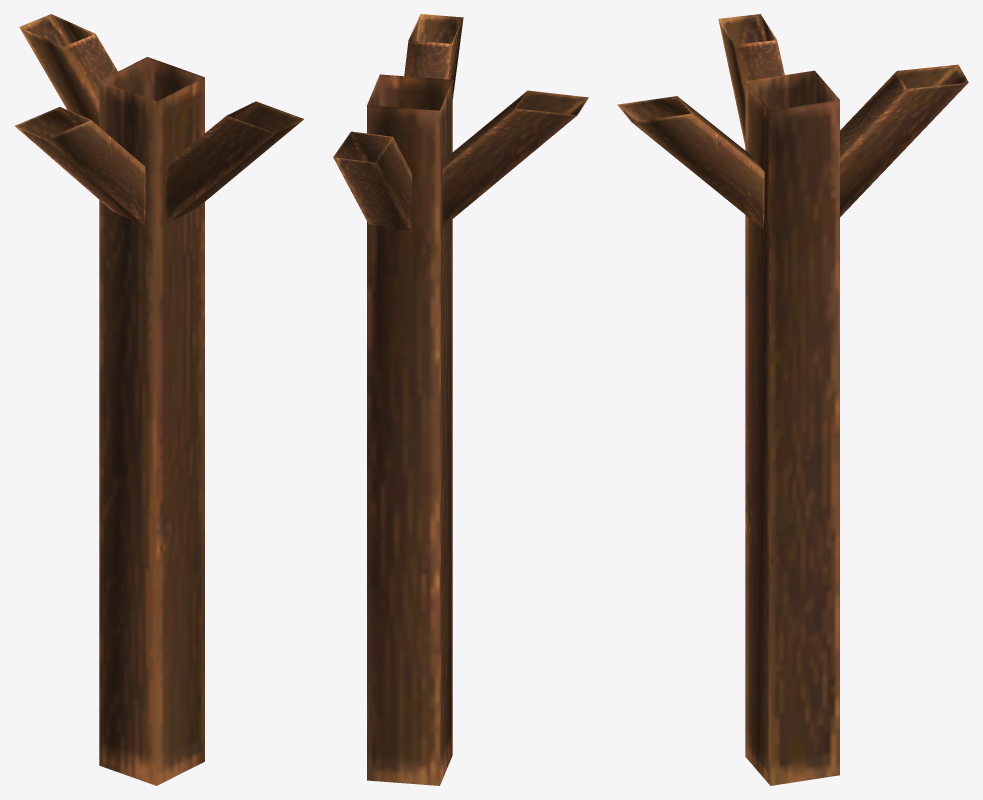
File: SWORDLIGHT20_JAILPLATSUPPORT66.fbx
3 renders of one model, left to right at view 1: azimuth 30°, elevation 25°; view 2: azimuth 150°, elevation 25°; view 3: azimuth 270°, elevation 25°, orthographic.
Parts seen in each view (by area): view 1: SWORDLIGHT20_JAILPLATSUPPORT66; view 2: SWORDLIGHT20_JAILPLATSUPPORT66; view 3: SWORDLIGHT20_JAILPLATSUPPORT66.
Boxes of the visible parts, x1,y1,x2,y2 form: SWORDLIGHT20_JAILPLATSUPPORT66: (15, 14, 303, 785); SWORDLIGHT20_JAILPLATSUPPORT66: (333, 14, 588, 785); SWORDLIGHT20_JAILPLATSUPPORT66: (617, 14, 968, 785).
Size of the model in its own units: 13831 by 40427 by 19003.
Materials: 1 (1 with a texture image).
